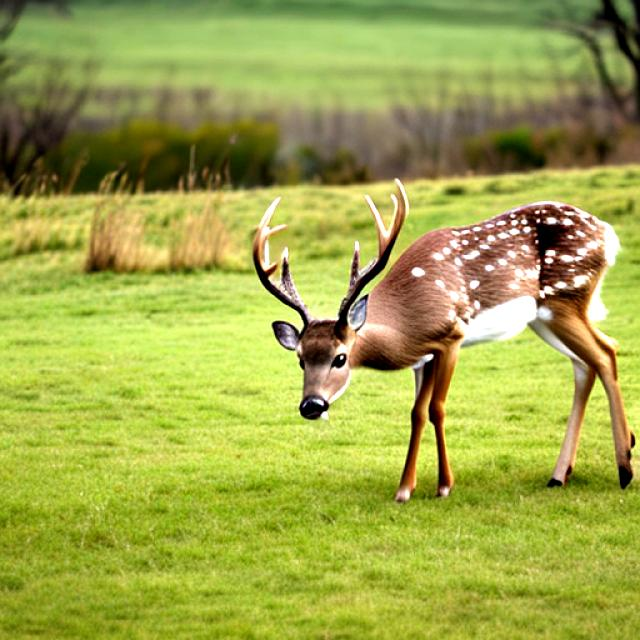deer: (234, 176, 640, 542)
